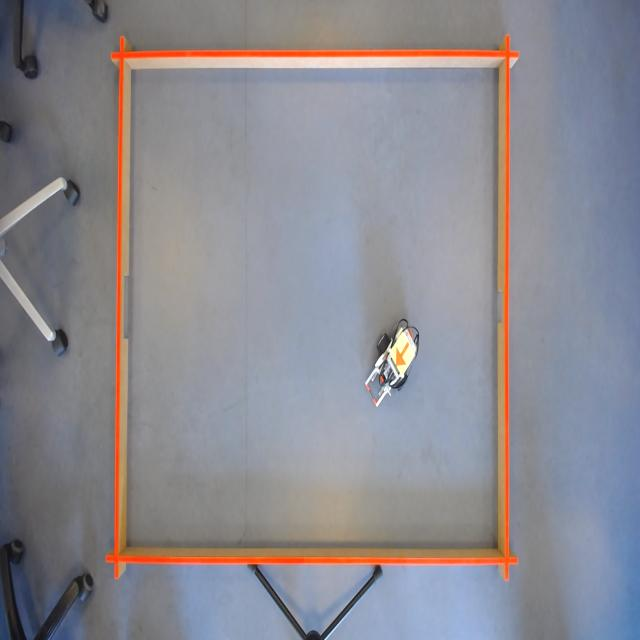corner: (495, 540, 519, 582), (111, 35, 133, 75), (496, 34, 519, 72), (106, 539, 127, 578)
